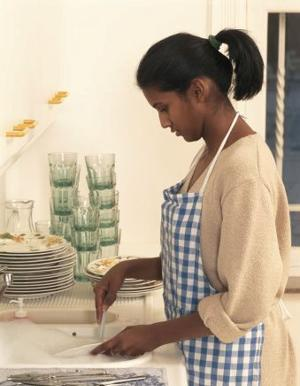person: (90, 29, 297, 386)
